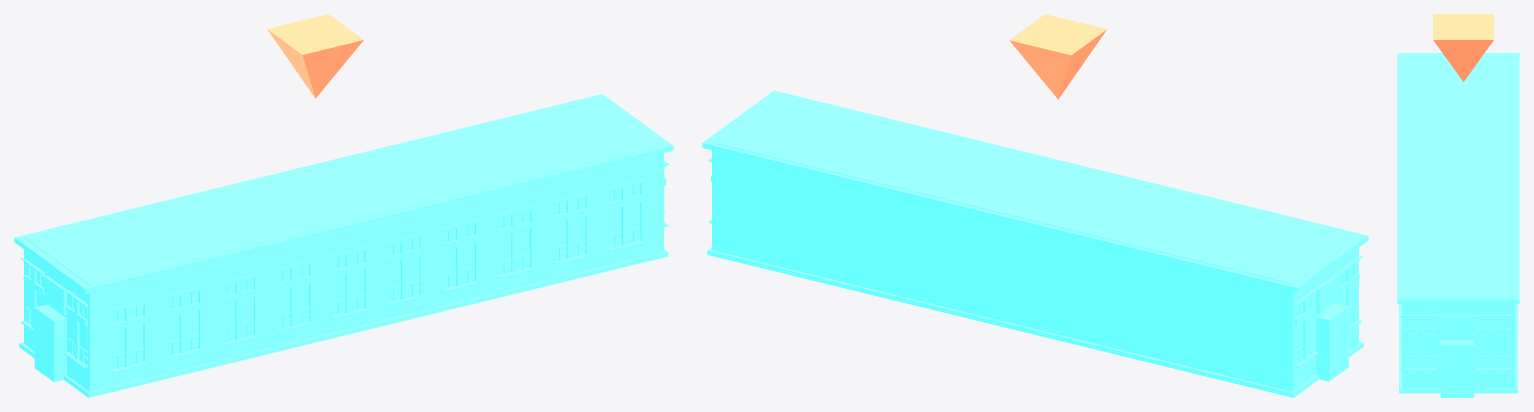
File: build7.gltf
3 renders of one model, left to right at view 1: azimuth 30°, elevation 25°; view 2: azimuth 150°, elevation 25°; view 3: azimuth 270°, elevation 25°, orthographic. The views are drawn at different scales.
Parts seen in each view (by area): view 1: subject, fire-mark; view 2: subject, fire-mark; view 3: subject, fire-mark.
Boxes of the visible parts, x1=… form: subject: x1=14, y1=94, x2=673, y2=397; fire-mark: x1=267, y1=14, x2=363, y2=98; subject: x1=702, y1=90, x2=1368, y2=397; fire-mark: x1=1009, y1=14, x2=1106, y2=99; subject: x1=1397, y1=53, x2=1519, y2=397; fire-mark: x1=1433, y1=14, x2=1493, y2=81.
Bounding box in the file's own units: 57.12 × 24.66 × 11.68.
